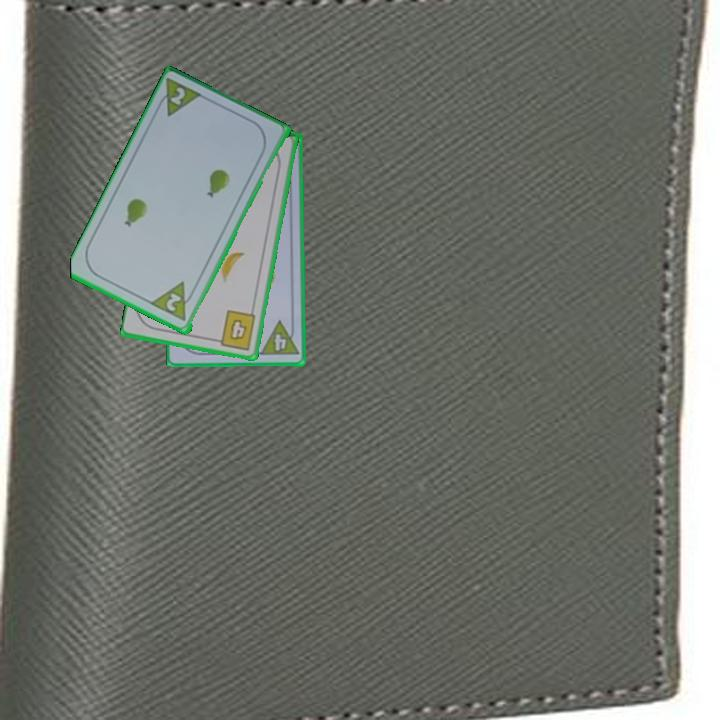2p: (149, 278, 199, 325), (167, 84, 189, 109)
4b: (211, 306, 259, 353)
4p: (257, 317, 301, 359)
